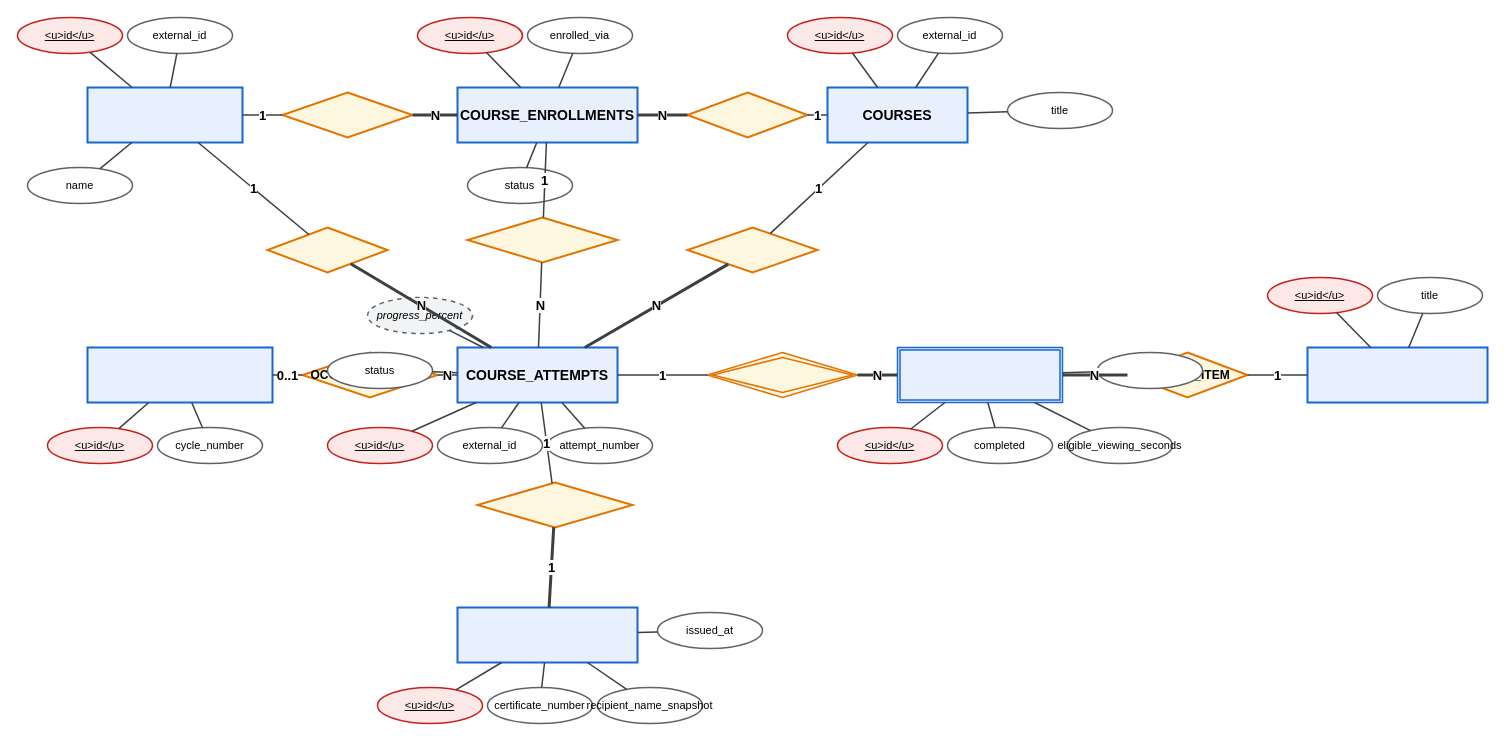
This 1508x742 diagram has some shape labels left out. Each missing label, with the centre of its shape:
"AWARDS_CERTIFICATE" belongs at point (554, 504).
"COURSE_CERTIFICATES" belongs at point (547, 634).
"COURSE_CHAPTER_ITEMS" belongs at point (1397, 374).
"FOR_COURSE" belongs at point (747, 114).
"GROUP_RENEWAL_CYCLES" belongs at point (179, 374).
"last_position_seconds" belongs at point (1149, 370).
"LESSON_PROGRESS" belongs at point (979, 374).
"MANIFESTS_ATTEMPT" belongs at point (542, 239).
"RECORDS_PROGRESS" belongs at point (782, 374).
"REGISTERS_USER" belongs at point (347, 114).
"TARGETS_COURSE" belongs at point (752, 249).
"UNDERTAKES" belongs at point (327, 249).
"USERS (Trainees)" belongs at point (164, 114).
